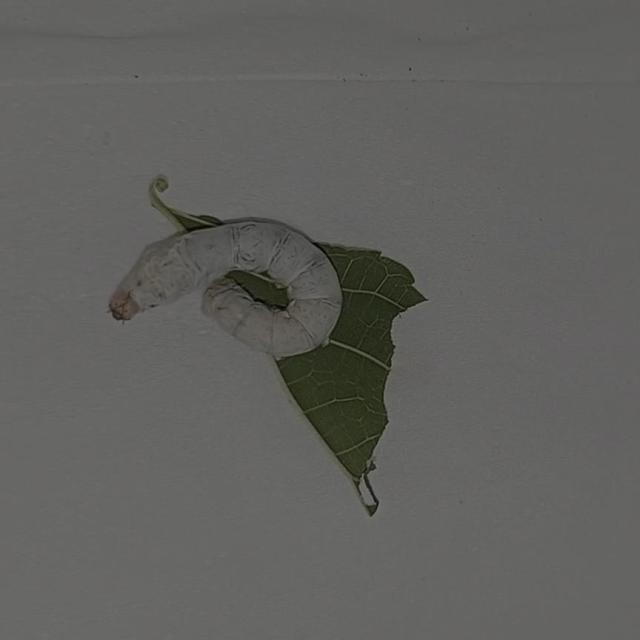Healthy: (98, 205, 350, 368)
